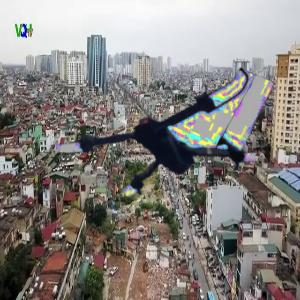drone: (62, 40, 257, 235)
